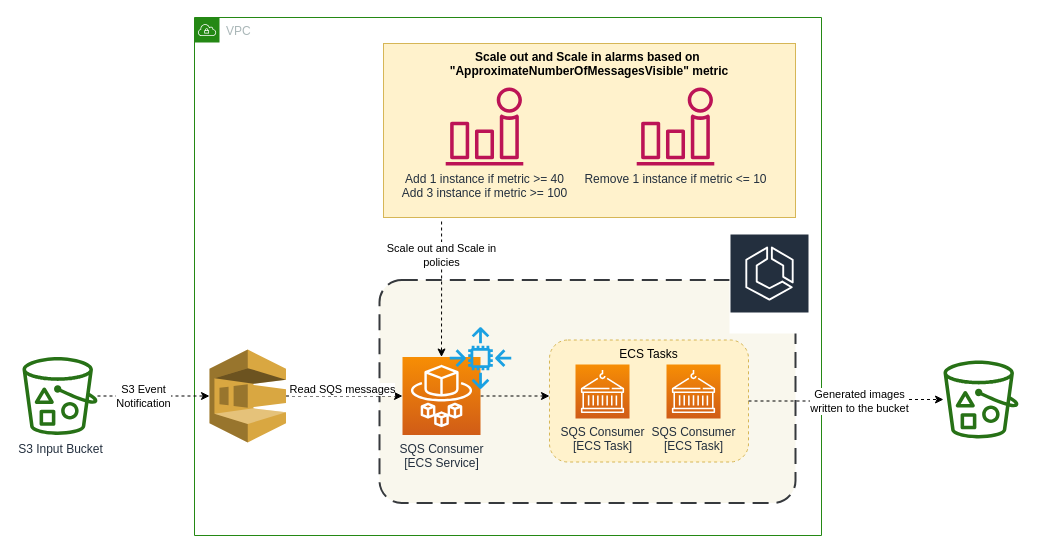
Image size: 1045x553. Some labels were removed from this diagram. The shapes that lost their labels are listed below. From the top down, each one's centre as x and y in pixels, then its label:
pixel 769 283: Amazon ECS
pixel 480 357: Autoscaling
pixel 247 395: SQS
pixel 980 399: S3 Output Bucket
